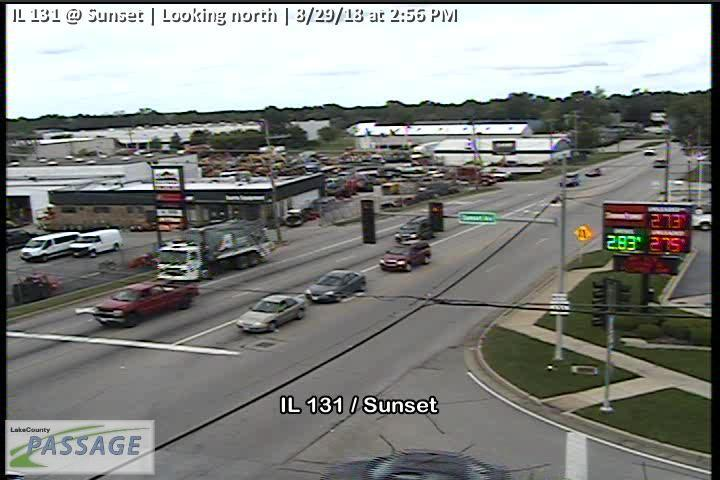SUV: (19, 231, 83, 263), (70, 228, 122, 257)
Sedan: (234, 291, 307, 334), (304, 268, 367, 303), (376, 240, 432, 273), (394, 215, 434, 243)
Truck: (154, 218, 276, 283), (89, 275, 199, 328)
